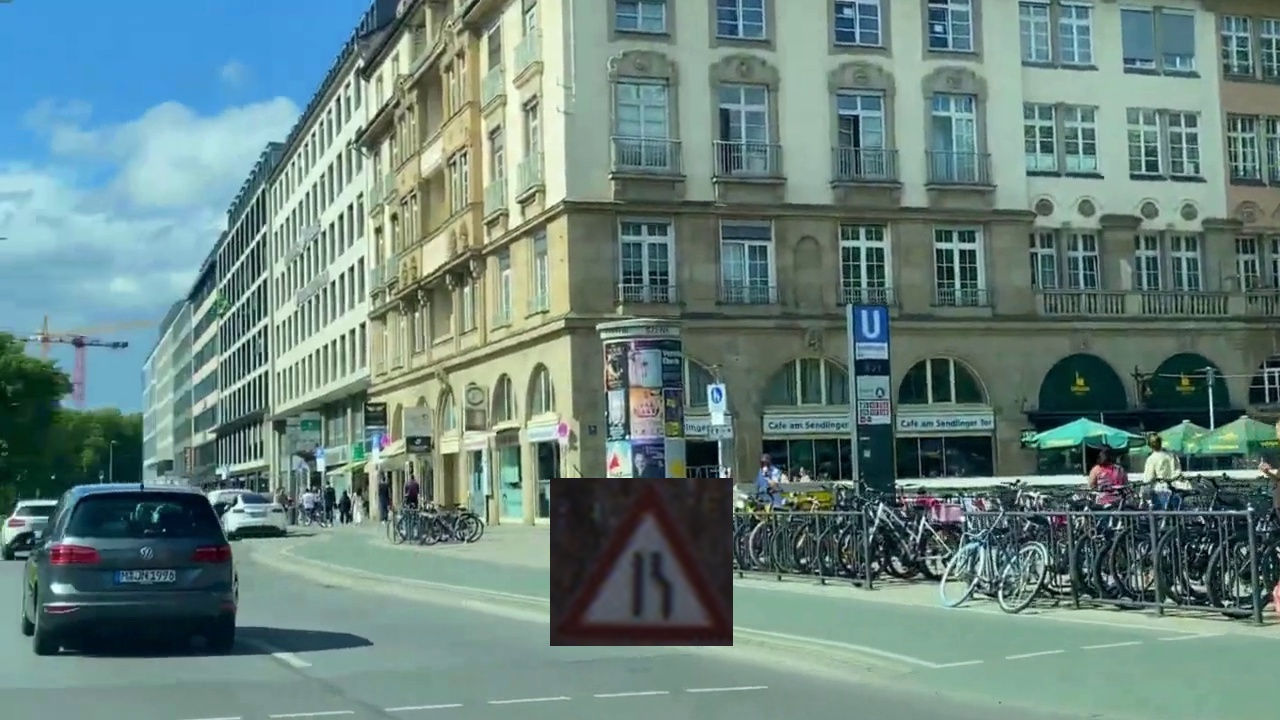Road narrows: (550, 478, 733, 646)
